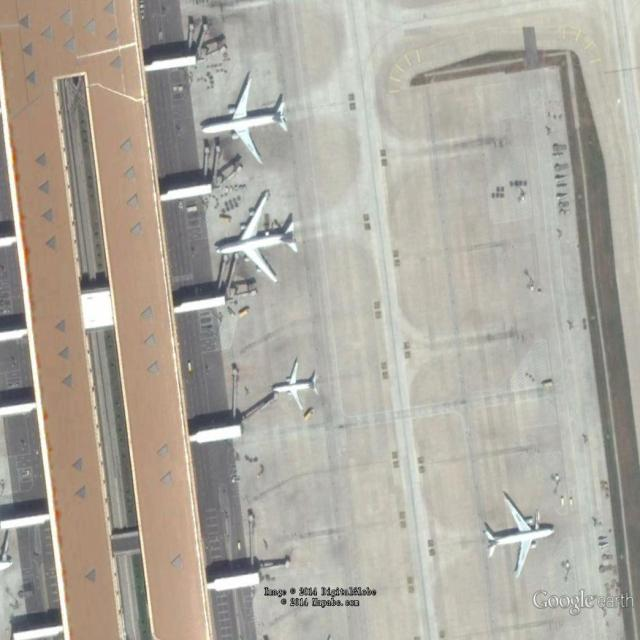aircraft: (197, 72, 291, 167), (214, 188, 300, 288), (482, 492, 558, 582), (271, 359, 322, 416)
